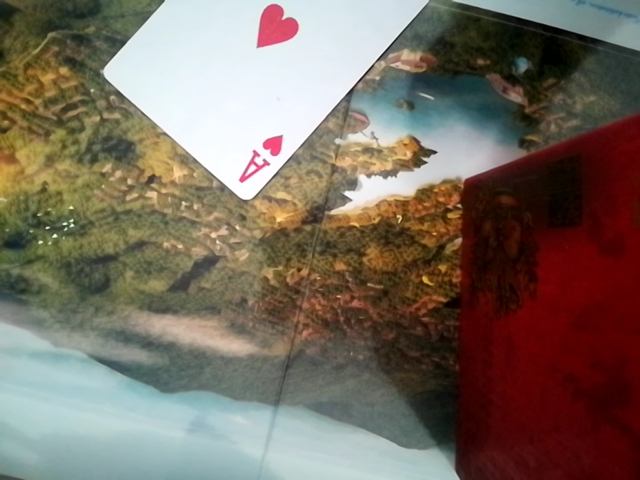hx a: (96, 0, 449, 198)
